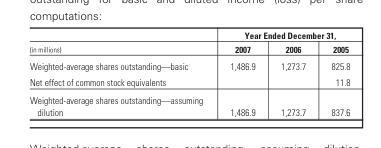table: (28, 29, 349, 117)
table column: (28, 29, 215, 117), (215, 29, 267, 117), (267, 29, 317, 117), (317, 29, 349, 117)
table column header: (28, 29, 349, 57)
table row: (28, 90, 349, 117), (28, 73, 349, 90), (28, 41, 349, 57), (28, 57, 349, 73), (28, 29, 349, 41)
table spanning cell: (28, 29, 215, 57), (215, 29, 349, 41)
